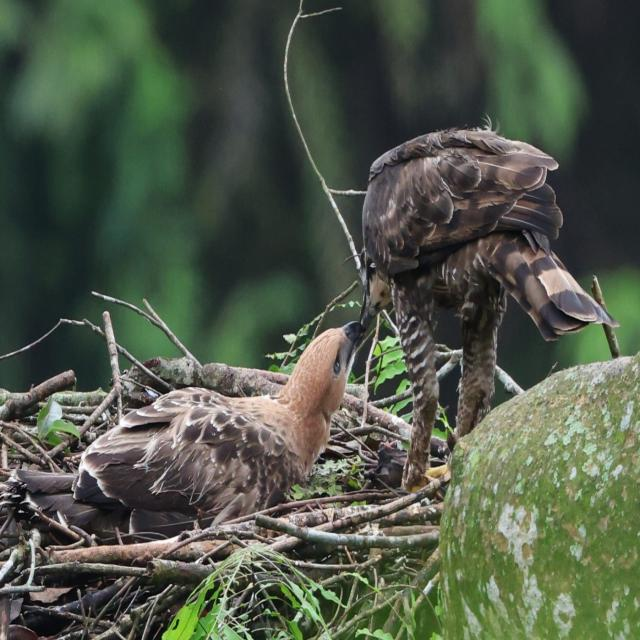Elang Jawa: (344, 109, 625, 518), (2, 275, 364, 582)
